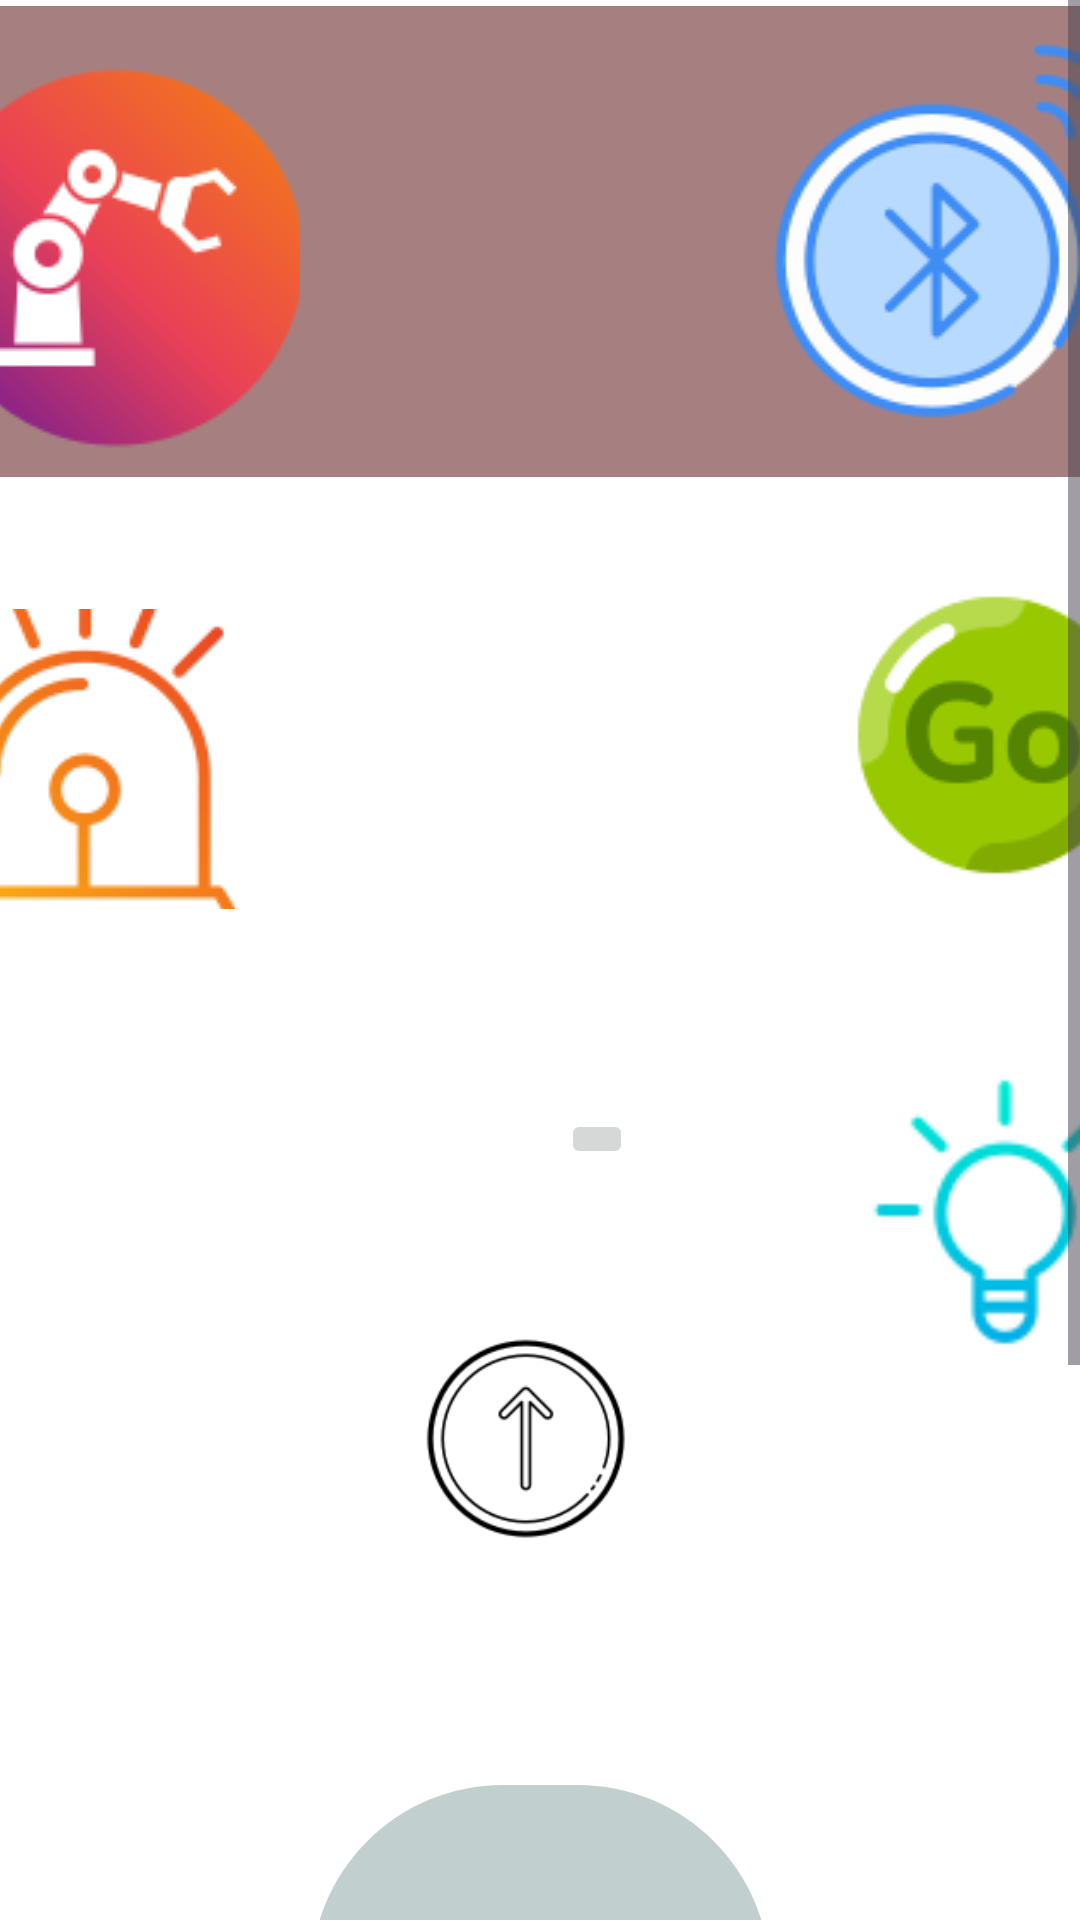

Screen size 1080×1920. Icon name, then its box in pixels as (x1, y1, x2, y2):
arrowwhiteup: (426, 1339, 625, 1538)
